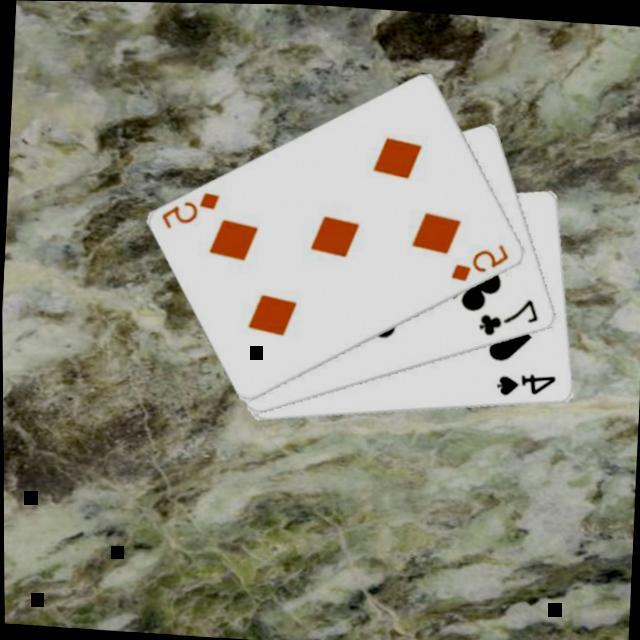4S: (495, 368, 560, 402)
5D: (448, 238, 514, 288), (159, 186, 225, 236)
7C: (476, 293, 544, 342)
